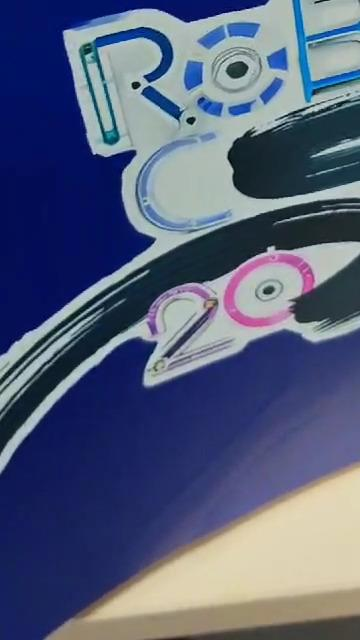B_R1: (38, 0, 360, 439)
